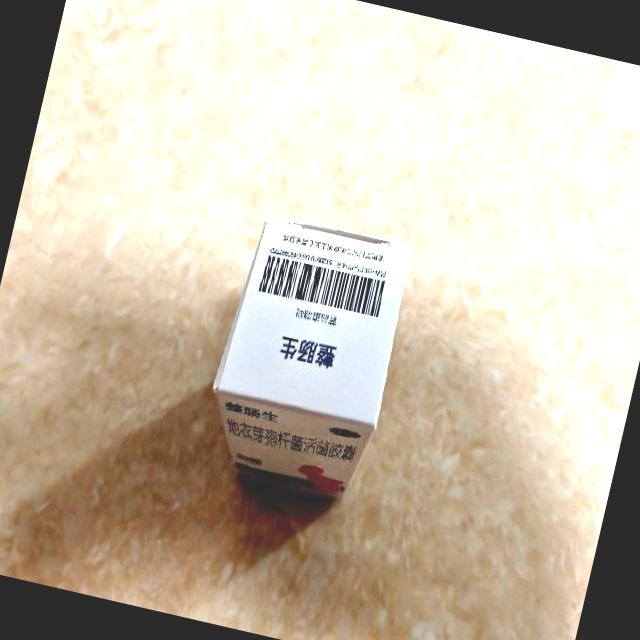box: (194, 207, 417, 506)
